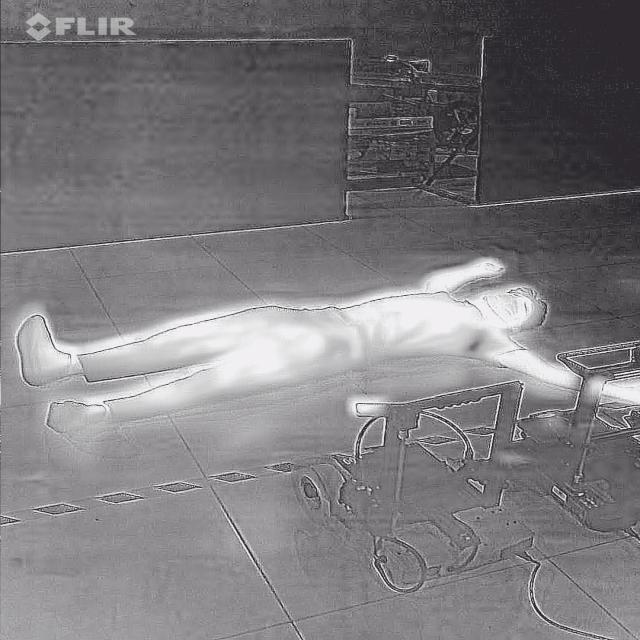Victim: (8, 253, 638, 445)
